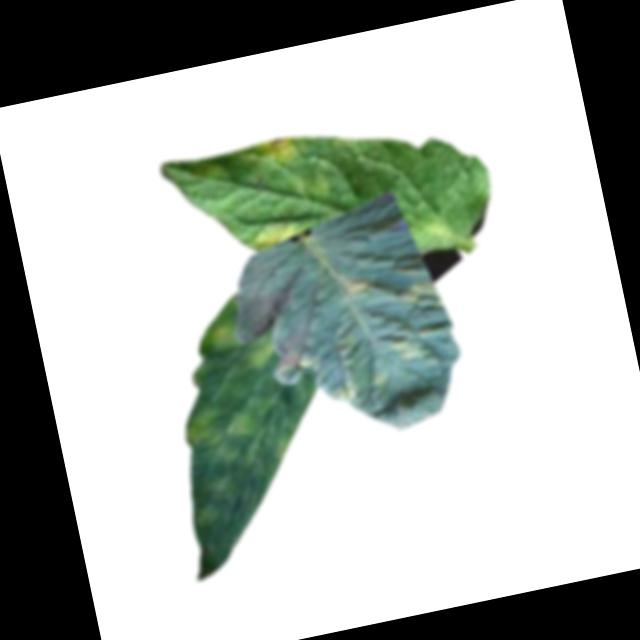Leaf_Mold: (177, 387, 297, 478), (389, 270, 450, 319), (251, 216, 303, 260), (238, 326, 282, 374), (384, 329, 435, 370), (331, 266, 378, 309), (253, 134, 298, 173), (201, 320, 240, 358), (324, 376, 365, 408), (367, 368, 393, 392)
